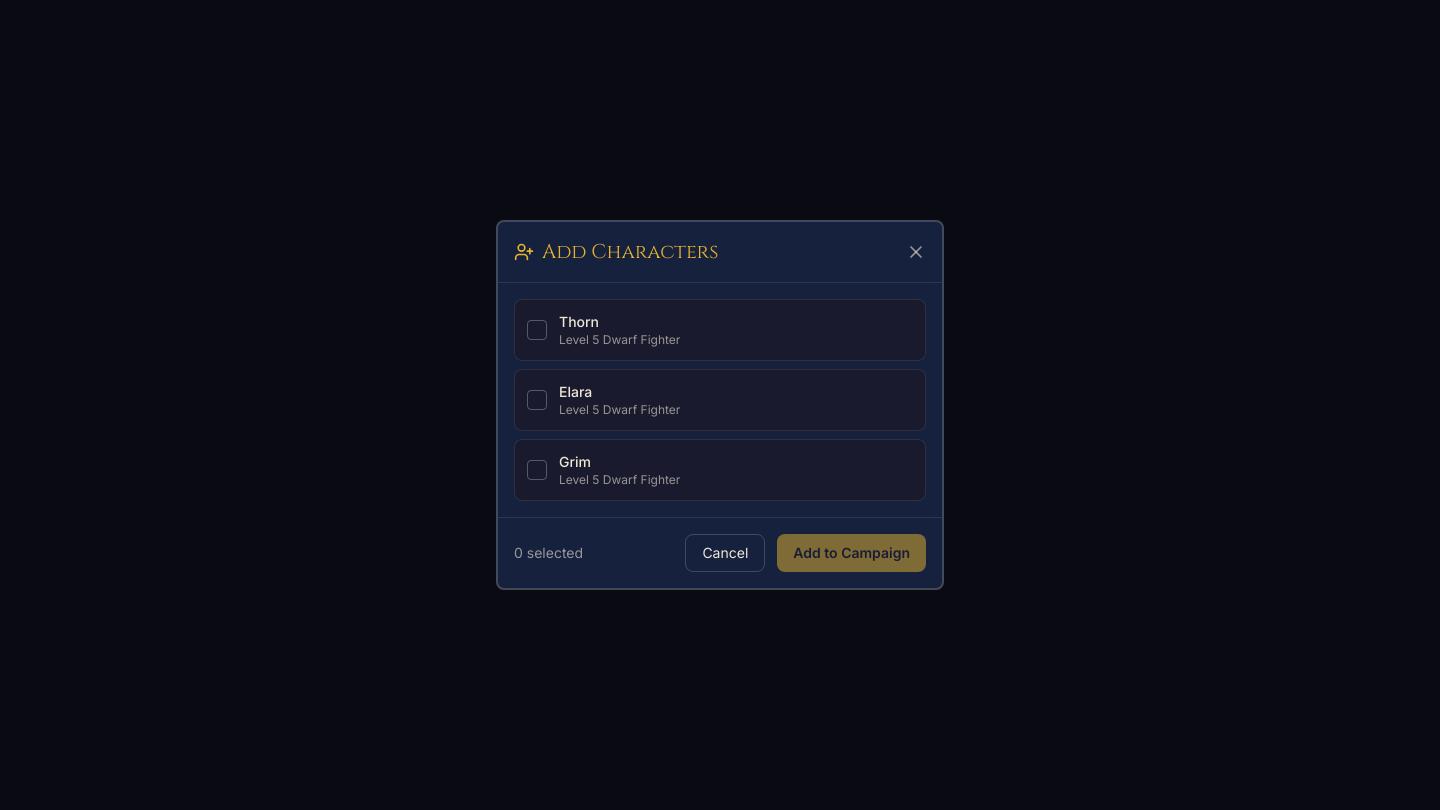
Test case: CharacterPicker › allows selecting characters
Click the text "Thorn". click: click(579, 322)
box: [559, 313, 599, 330]
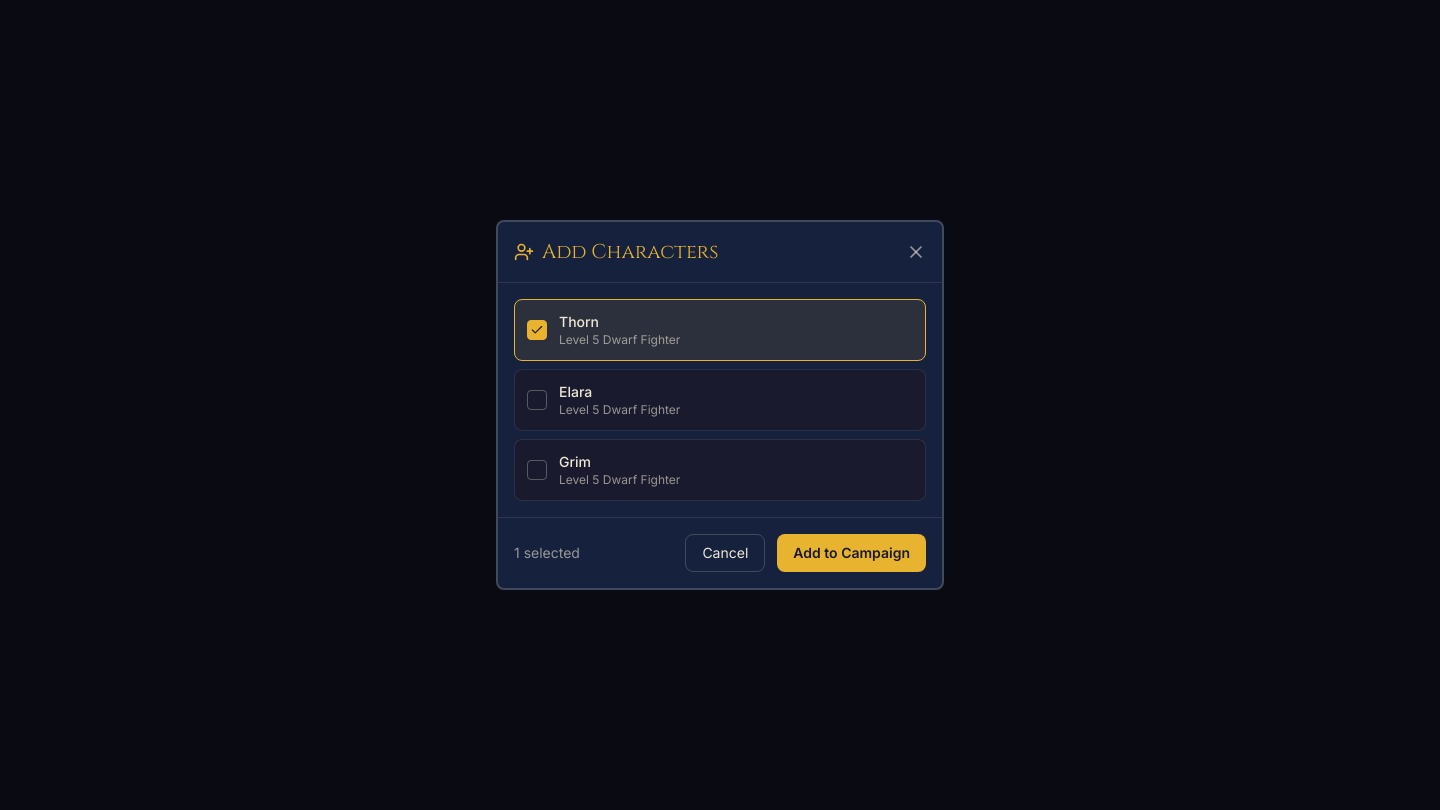
Now the text "1 selected" is shown, box [514, 543, 580, 563]
